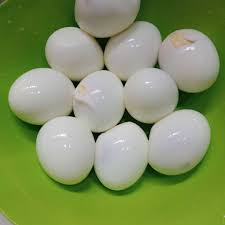Telur rebus: (30, 117, 97, 185), (147, 109, 211, 177), (159, 28, 222, 95), (94, 121, 151, 193), (7, 66, 78, 123), (104, 19, 162, 81), (43, 26, 107, 81), (73, 68, 125, 133), (123, 66, 180, 122), (72, 1, 142, 34)
